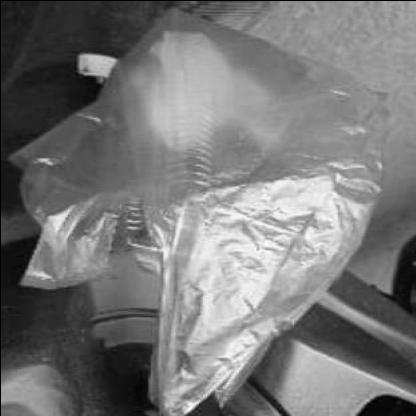objects: (23, 20, 376, 397)
